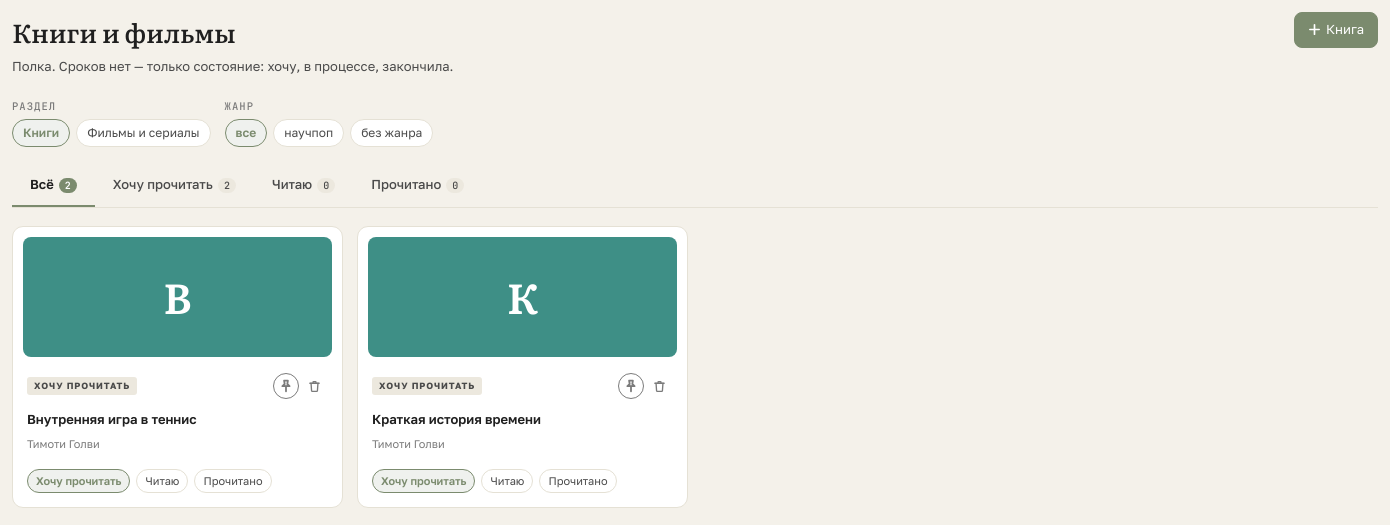
жанры на полке › фильтр по жанру оставляет только его книги
The image size is (1390, 525).
expect the text "Внутренняя игра в теннис" is shown: met, box [27, 411, 196, 427]
Click the button "научпоп".
click(309, 133)  # box [273, 119, 344, 147]
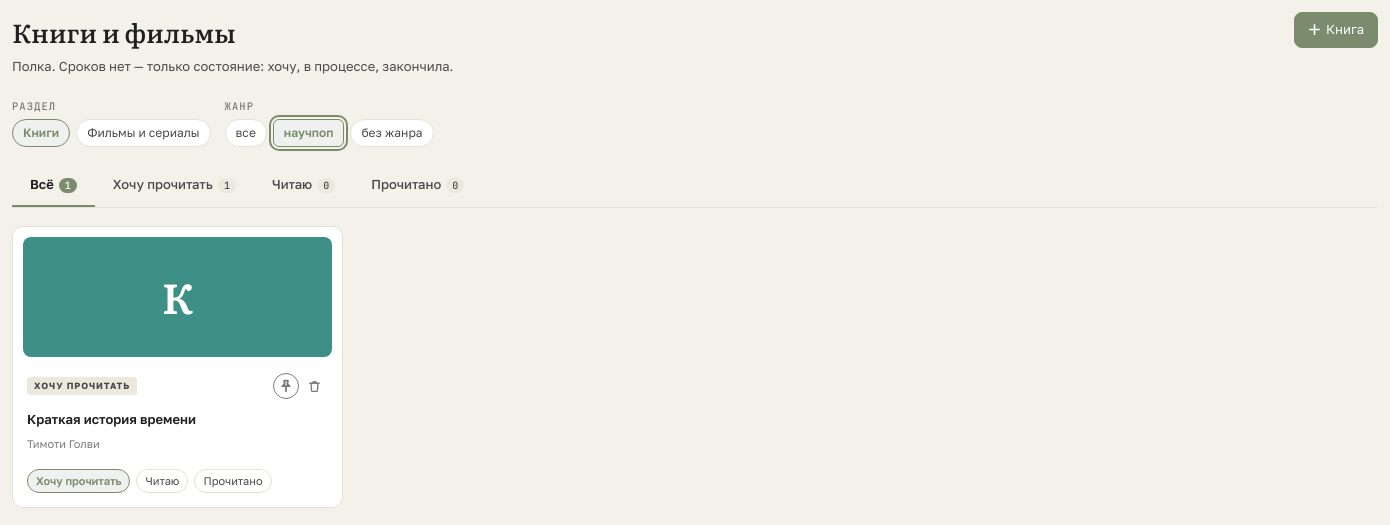
expect the text "Краткая история времени" is shown: met, box [27, 411, 196, 427]
expect the text "Внутренняя игра в теннис" is gone: met
